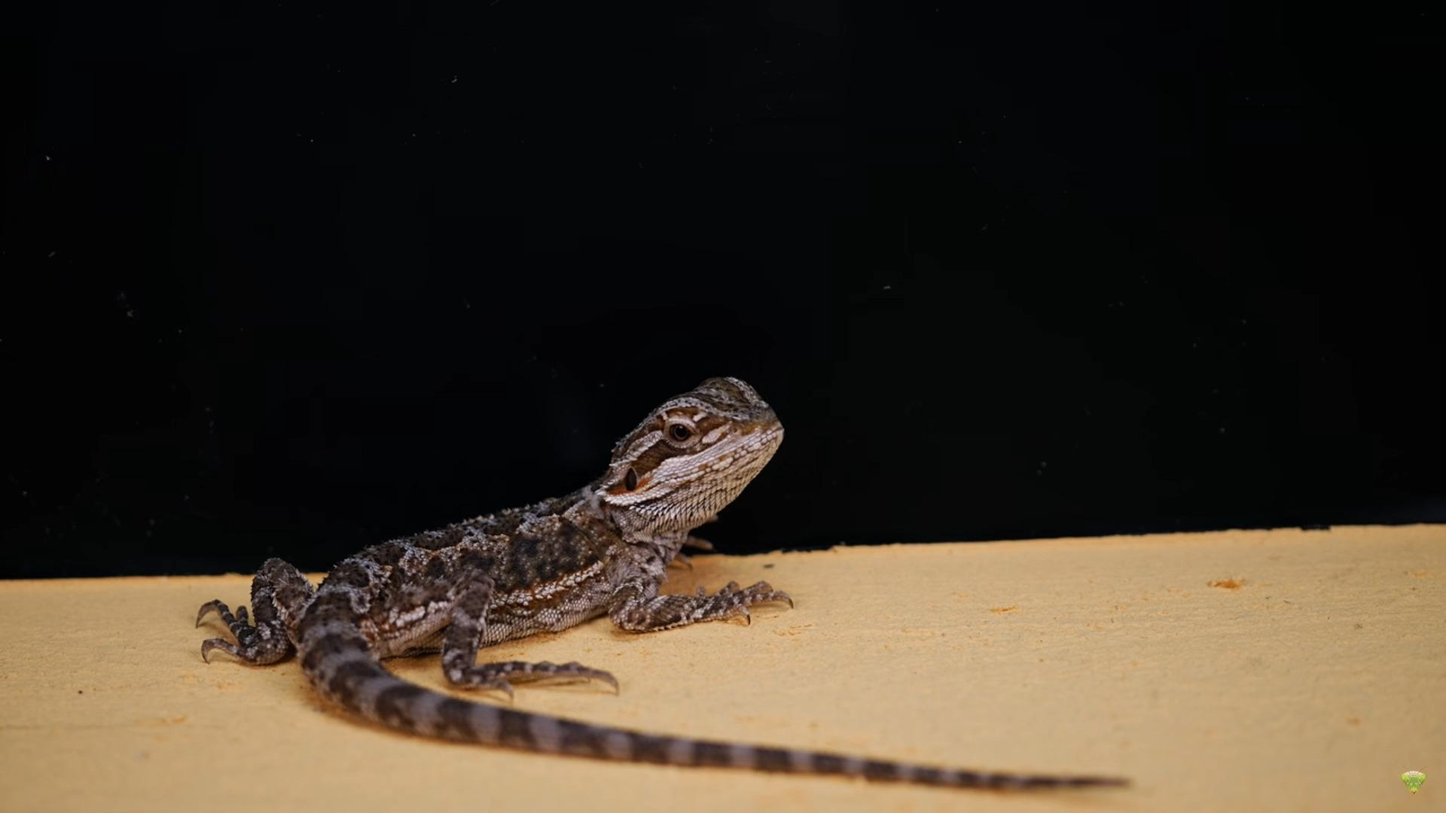lizard: (189, 373, 911, 774)
